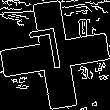L_S: (35, 27, 75, 83)
